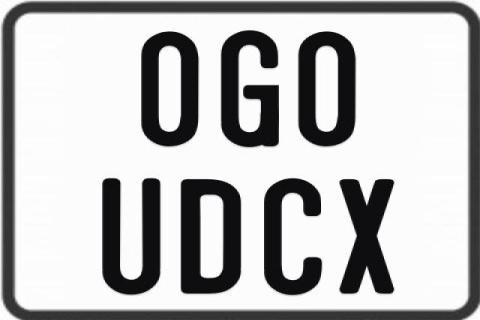0: (140, 31, 200, 148), (297, 29, 355, 149)
C: (264, 178, 326, 296)
D: (179, 179, 244, 296)
G: (220, 31, 281, 150)
U: (100, 176, 158, 296)
X: (339, 177, 397, 295)
